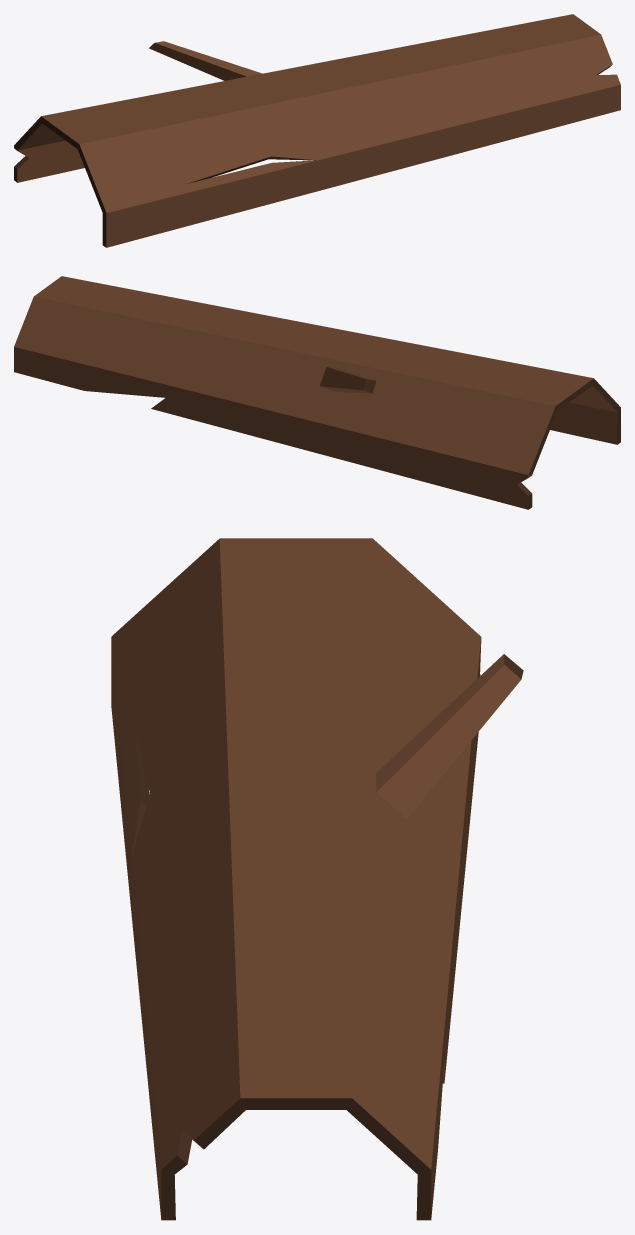
Rendered from Log_4_Brown.fbx.
3 views of the same model, one above another, from view 1: azimuth 30°, elevation 25°; view 2: azimuth 150°, elevation 25°; view 3: azimuth 270°, elevation 25° (orthographic). The views are drawn at different scales.
Visible parts, largest first — view 1: Log_4_Brown; view 2: Log_4_Brown; view 3: Log_4_Brown.
Part boxes in pixels (bbox=[...]): Log_4_Brown: bbox=[14, 14, 620, 247]; Log_4_Brown: bbox=[14, 276, 620, 509]; Log_4_Brown: bbox=[111, 538, 523, 1220].
Bounding box in the file's own units: 250 × 44.2 × 84.71.
